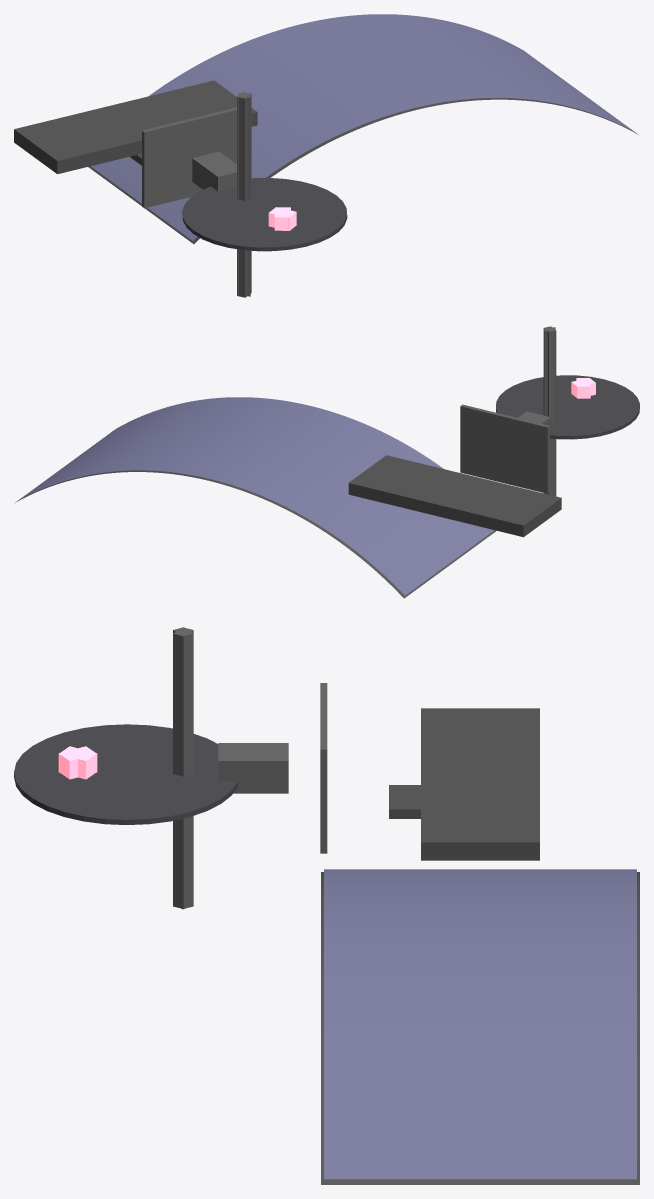
Rendered from Titan45OLED.glb.
3 views of the same model, one above another, from view 1: azimuth 30°, elevation 25°; view 2: azimuth 150°, elevation 25°; view 3: azimuth 270°, elevation 25° (orthographic). The views are drawn at different scales.
Parts seen in each view (by area): view 1: Titan45OLED; view 2: Titan45OLED; view 3: Titan45OLED.
Boxes of the visible parts, left/top/right/bottom form: Titan45OLED: left=14, top=14, right=638, bottom=297; Titan45OLED: left=15, top=326, right=639, bottom=598; Titan45OLED: left=14, top=627, right=639, bottom=1184.
Bounding box in the file's own units: 1.21 × 0.42 × 0.8732.
